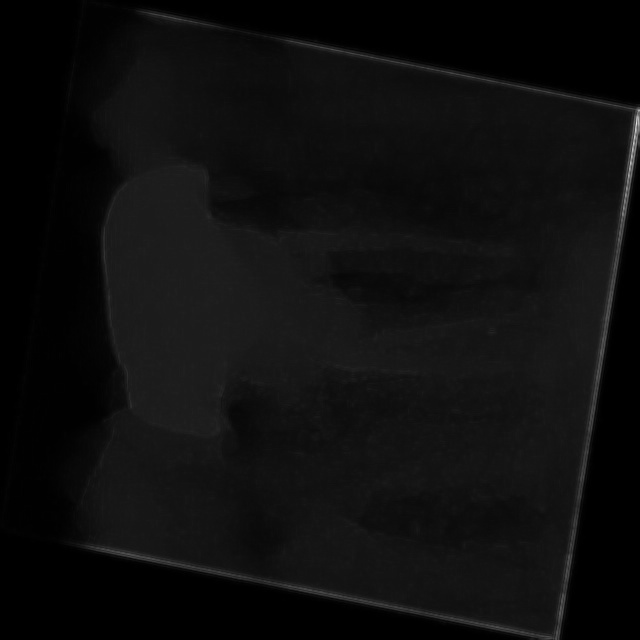Class 1- complete endodontic treatment: (154, 99, 598, 528)
